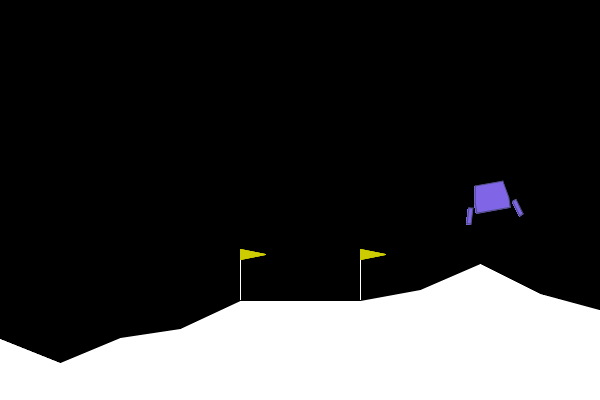lander: (459, 177, 525, 226)
